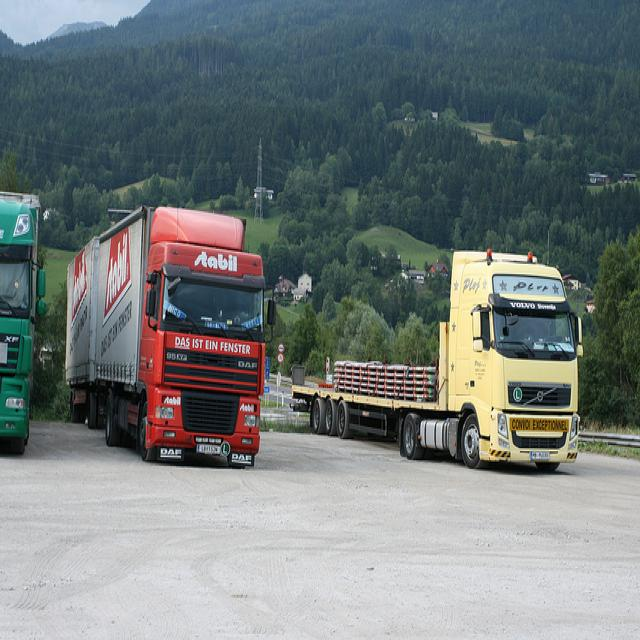Vehicle: (293, 249, 585, 472), (63, 203, 264, 464), (1, 191, 58, 459)
